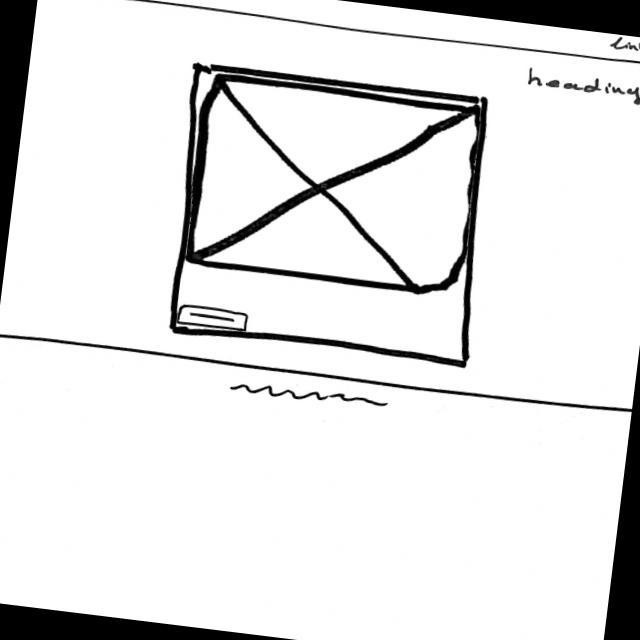container: (154, 57, 504, 370), (38, 0, 640, 69)
icon-button: (174, 301, 251, 332)
image: (179, 71, 486, 299)
label: (524, 65, 640, 110), (610, 35, 640, 56)
text: (226, 378, 390, 412)
